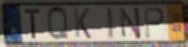I: (105, 6, 116, 42)
K: (72, 7, 93, 40)
N: (118, 6, 143, 40)
P: (142, 6, 166, 40)
Q: (46, 6, 71, 43)
T: (23, 8, 43, 40)
